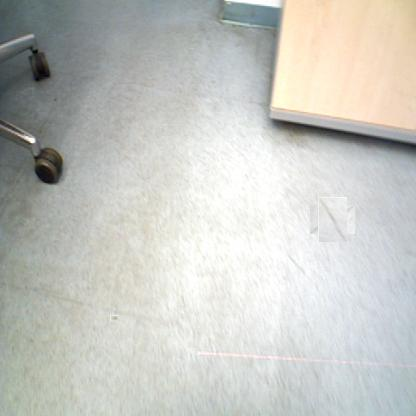mark: (314, 201, 351, 238), (111, 314, 118, 323), (52, 96, 58, 104)
